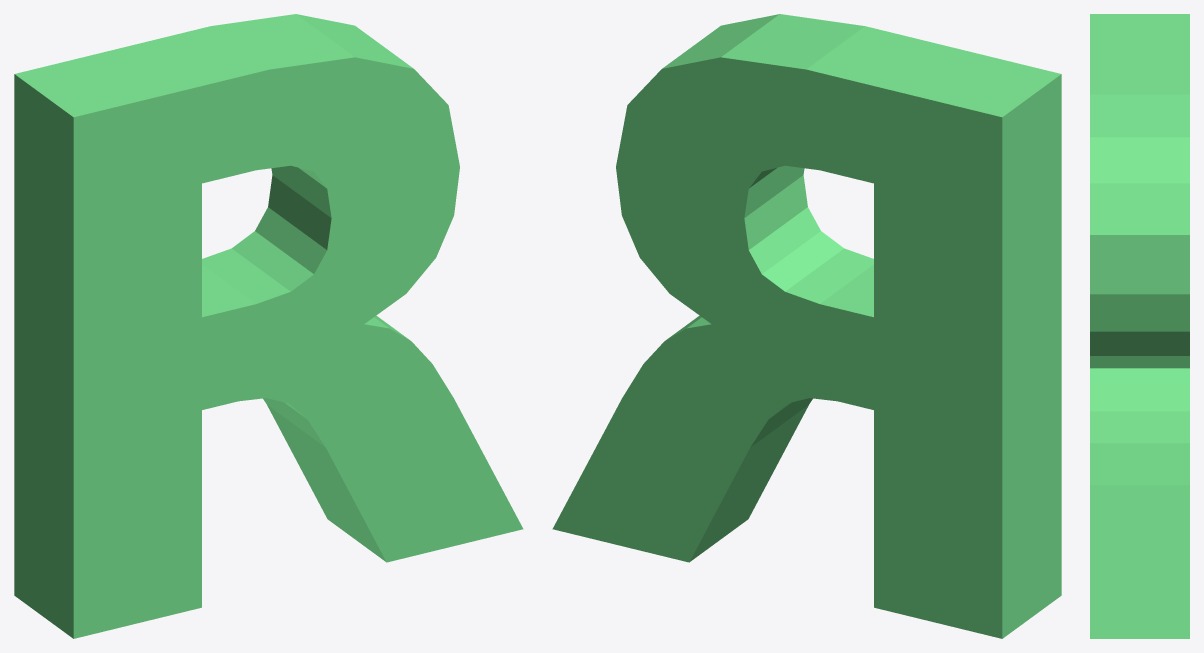
The model's file is huruf_besar_r.glb.
3 views of the same model, side by side, from view 1: azimuth 30°, elevation 25°; view 2: azimuth 150°, elevation 25°; view 3: azimuth 270°, elevation 25° (orthographic). The views are drawn at different scales.
Parts seen in each view (by area): view 1: geometry_0; view 2: geometry_0; view 3: geometry_0.
Part boxes in pixels (<box>): geometry_0: <box>14,14,523,638</box>; geometry_0: <box>552,14,1061,638</box>; geometry_0: <box>1090,14,1189,638</box>.
Size of the model in its own units: 6.58 by 7.29 by 1.5.
